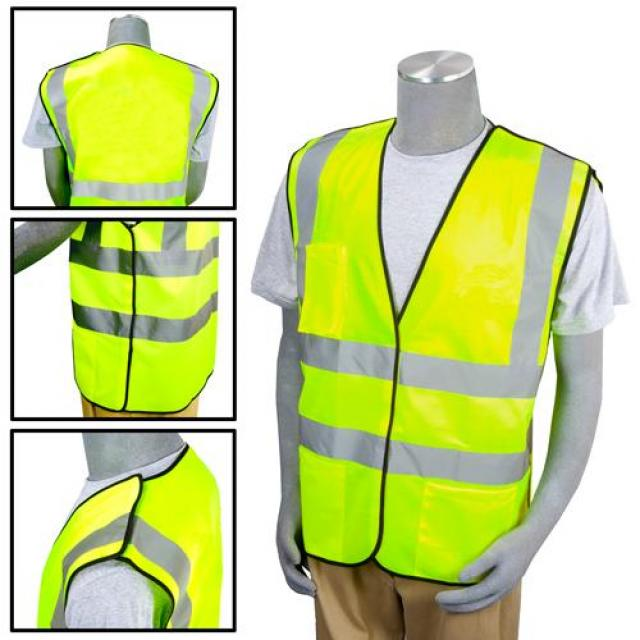Reflective-Jacket: (280, 104, 598, 590), (33, 450, 229, 632), (50, 221, 228, 416), (36, 42, 226, 209)
